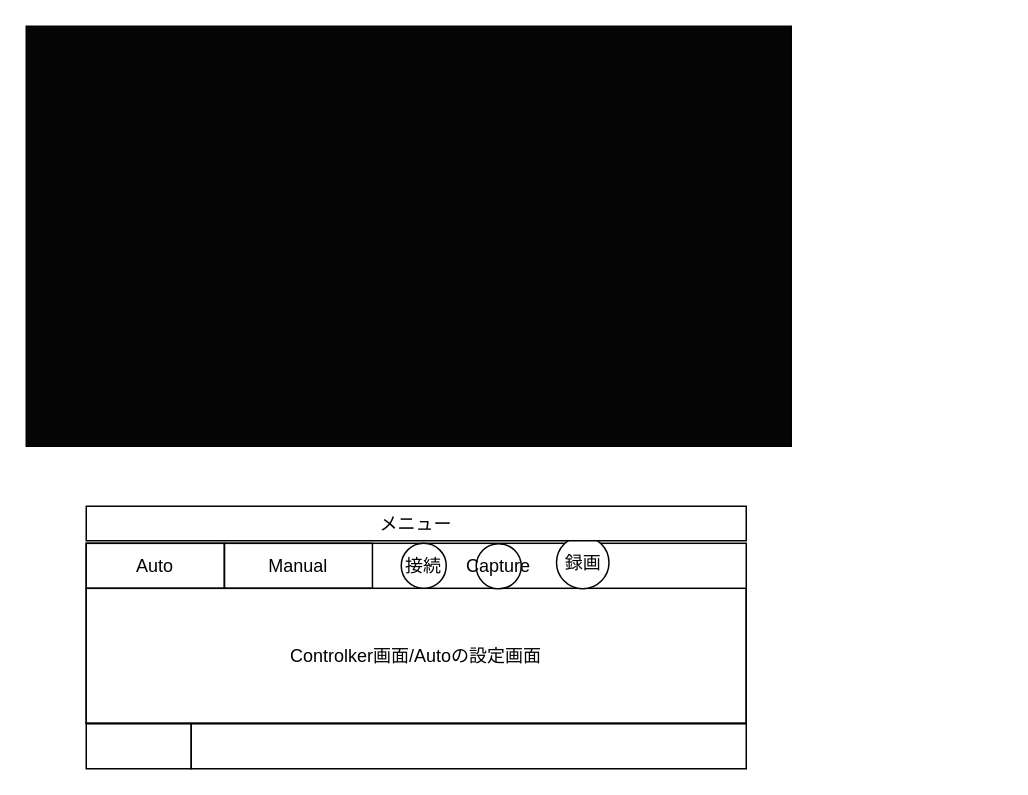
This 1028x795 diagram has some shape labels left out. The shapes that lost their labels are listed below. From the top down, each one's centre as x and y in pixels, then its label:
point 408,235: Game画面
point 138,745: フォルダ
point 468,745: Path
